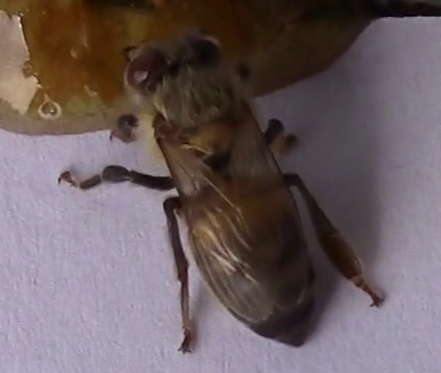Varroa destructor: (123, 51, 170, 90)
